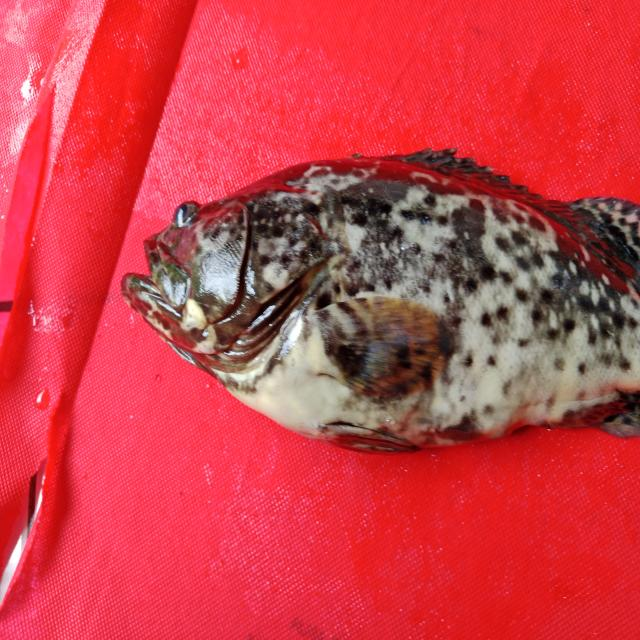ikan: (117, 112, 623, 464)
